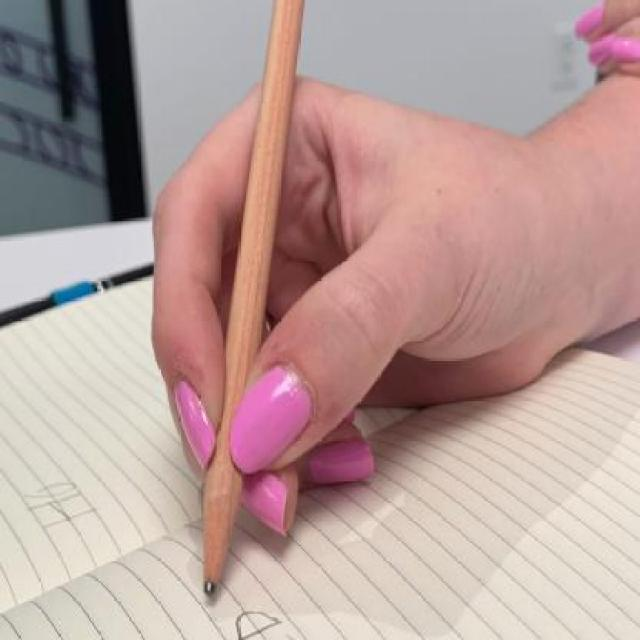Pencil: (185, 486, 237, 602)
